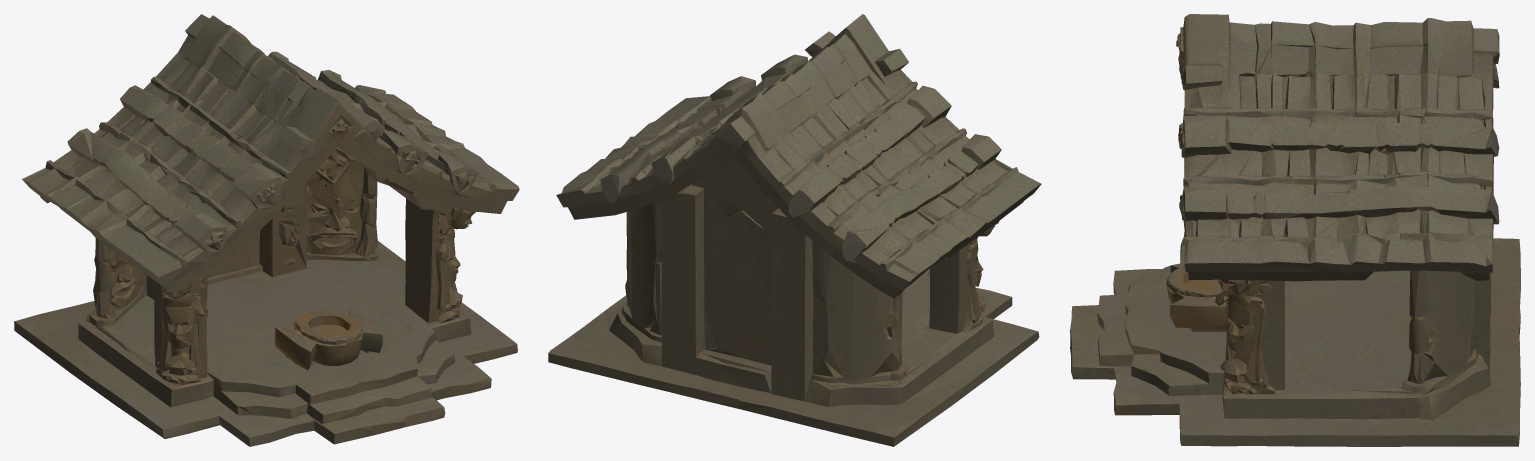
File: wardstone.glb
3 renders of one model, left to right at view 1: azimuth 30°, elevation 25°; view 2: azimuth 150°, elevation 25°; view 3: azimuth 270°, elevation 25°, orthographic. The views are drawn at different scales.
Parts seen in each view (by area): view 1: mesh_node; view 2: mesh_node; view 3: mesh_node.
Part boxes in pixels (x1,y1,x2,y2): mesh_node: (14, 14, 519, 446); mesh_node: (548, 14, 1041, 446); mesh_node: (1070, 14, 1520, 446).
Bounding box in the file's own units: 1.89 × 1.45 × 1.77.
Materials: 1 (1 with a texture image).
